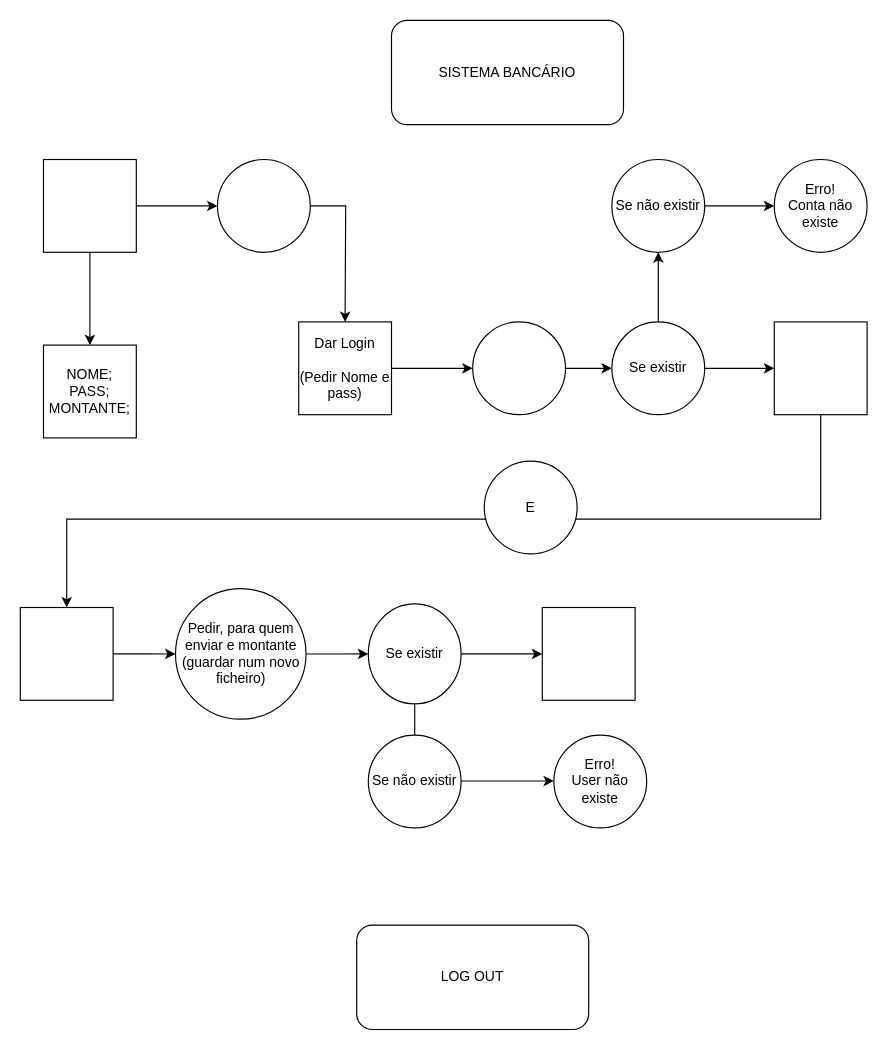
This 887x1050 diagram has some shape labels left out. Here are the shapes that lost their labels. From the top down, the centre of each, then its label:
At (x=89, y=205): "Criar uma Conta".
At (x=263, y=205): "Guardar num ficheiro".
At (x=519, y=368): "Ler do ficheiro".
At (x=820, y=368): "Ver Detalhes da conta (Ler ficheiro)".
At (x=66, y=653): "Transferir Dinheiro".
At (x=588, y=653): "Ler o utilizador e somar o montante ao seu balence".
